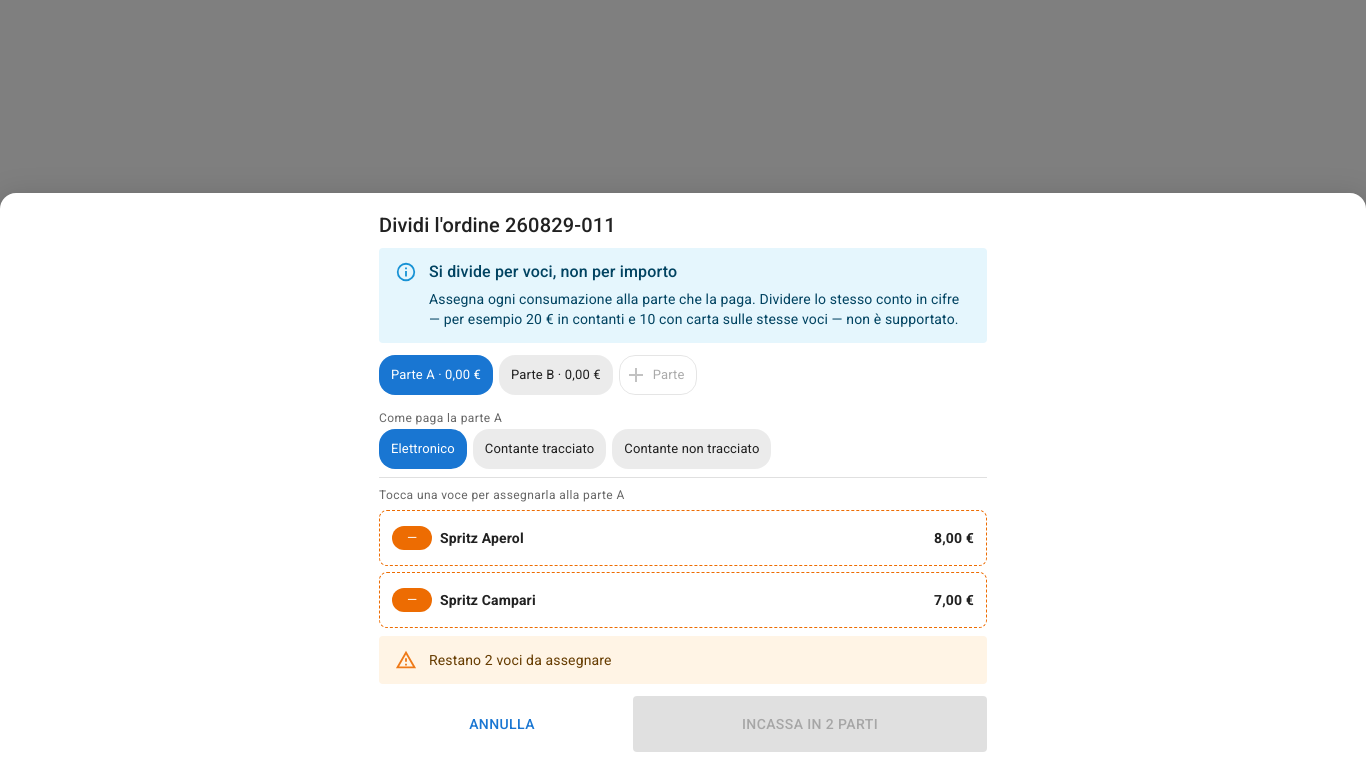
Test: SplitOrdine › non permette di confermare se una parte resta senza voci
Click the text "Spritz Aperol".
click(482, 538)  # box [440,530,524,546]
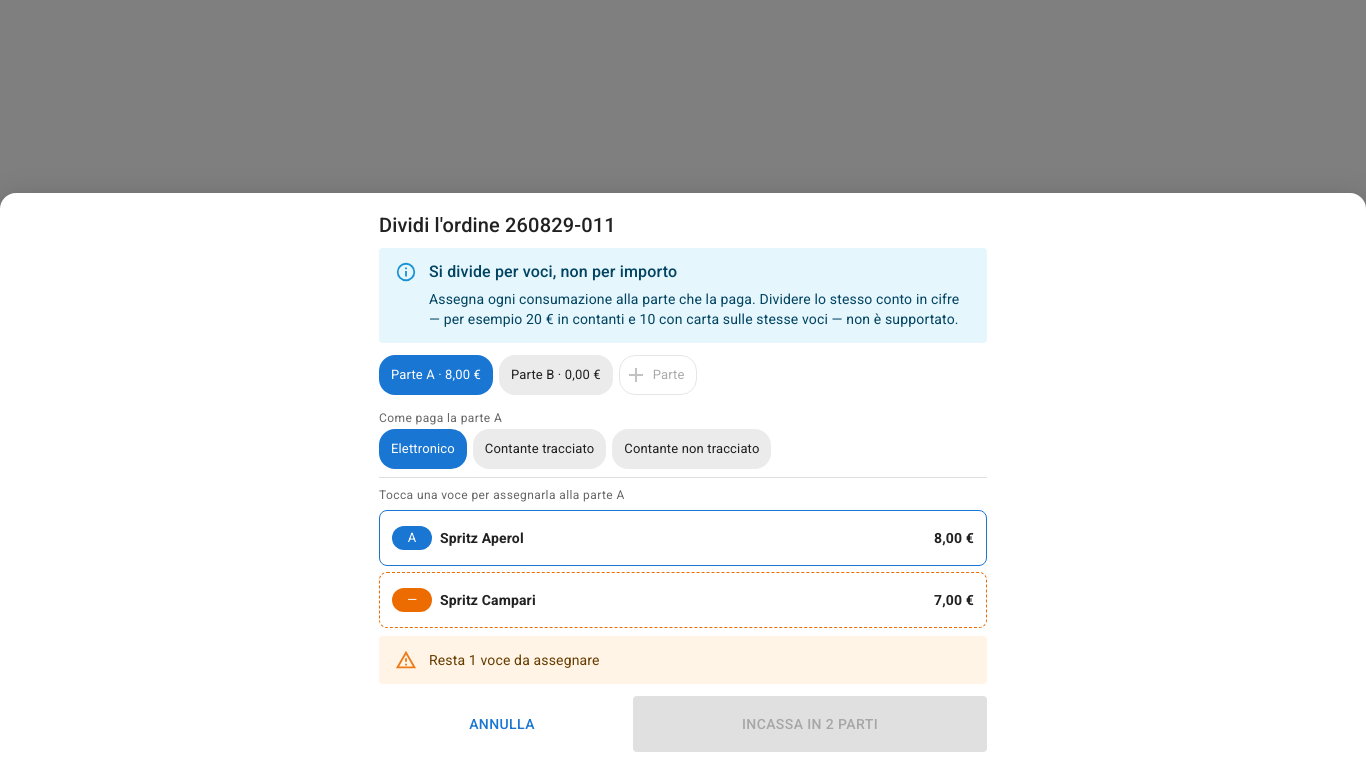
Click the text "Spritz Campari".
click(488, 600)  # box [440,592,536,608]
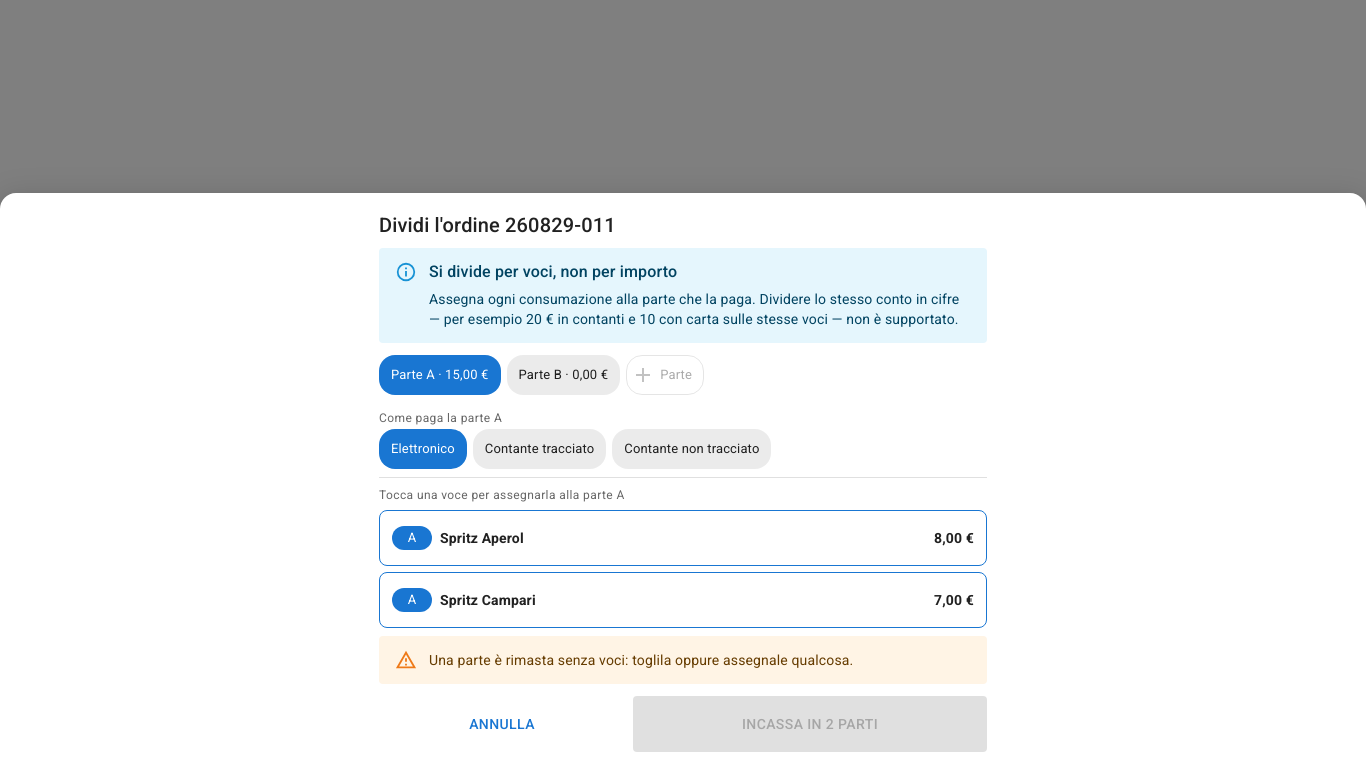
Check: the button "Incassa in 2 parti" is disabled, box [633,696,987,752]
Check: the text "Una parte è rimasta senza voci" is shown, box [429,652,853,668]
